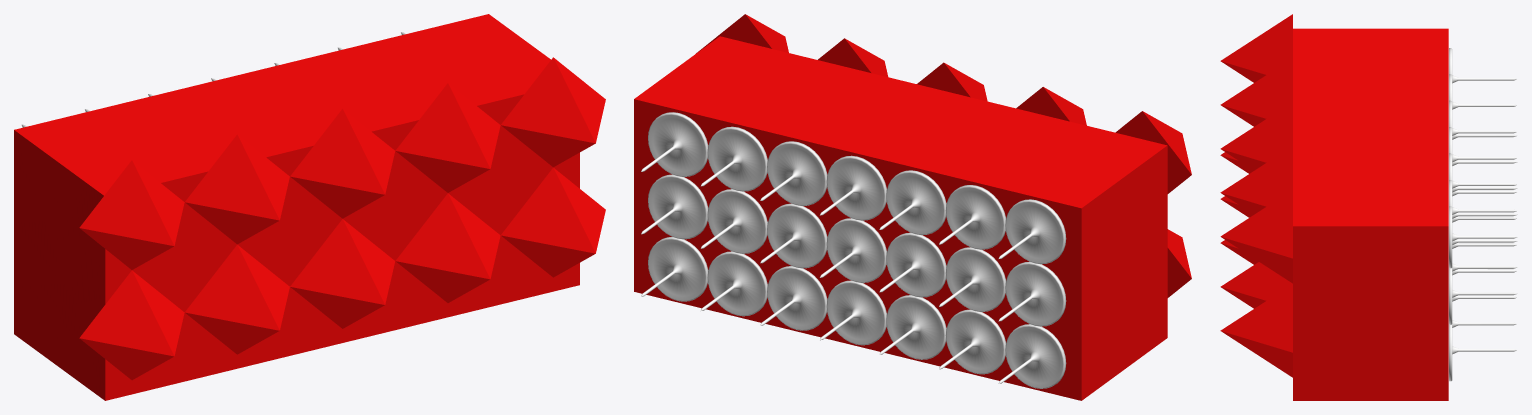
File: tackwall 1.fbx
3 views of the same model, side by side, from view 1: azimuth 30°, elevation 25°; view 2: azimuth 150°, elevation 25°; view 3: azimuth 270°, elevation 25° (orthographic). The views are drawn at different scales.
Parts seen in each view (by area): view 1: Cube.001, Cube.007; view 2: Cube.001, tack.018, Cube.007; view 3: Cube.001, Cube.007, tack.018.
Boxes of the visible parts, x1=… form: Cube.001: x1=14, y1=14, x2=579, y2=400; Cube.007: x1=79, y1=57, x2=605, y2=380; Cube.001: x1=634, y1=36, x2=1167, y2=400; tack.018: x1=641, y1=112, x2=1066, y2=388; Cube.007: x1=696, y1=14, x2=1191, y2=297; Cube.001: x1=1293, y1=28, x2=1448, y2=400; Cube.007: x1=1220, y1=14, x2=1292, y2=377; tack.018: x1=1449, y1=48, x2=1517, y2=381.
Bounding box in the file's own units: 1000 × 425 × 573.
